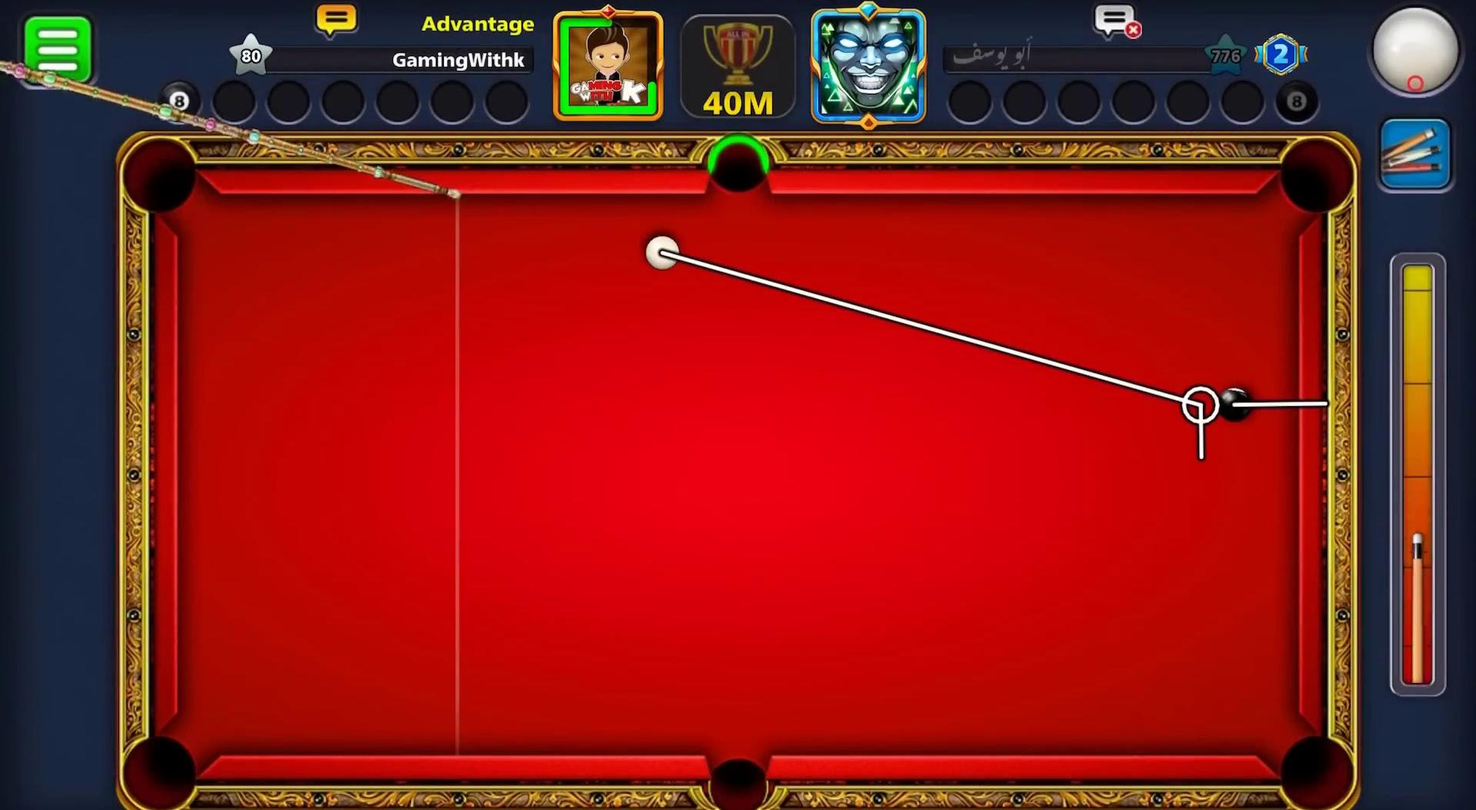Ball: (1215, 385, 1251, 422)
Force: (1391, 254, 1451, 718)
Guideline: (658, 245, 1334, 464)
Hole: (1267, 119, 1365, 227), (1256, 721, 1372, 809), (699, 127, 778, 215), (119, 135, 201, 213), (122, 733, 198, 808), (705, 755, 771, 809)
Play_Area: (178, 198, 1288, 756)
Spin: (1360, 0, 1475, 109)
White: (639, 231, 681, 275)
